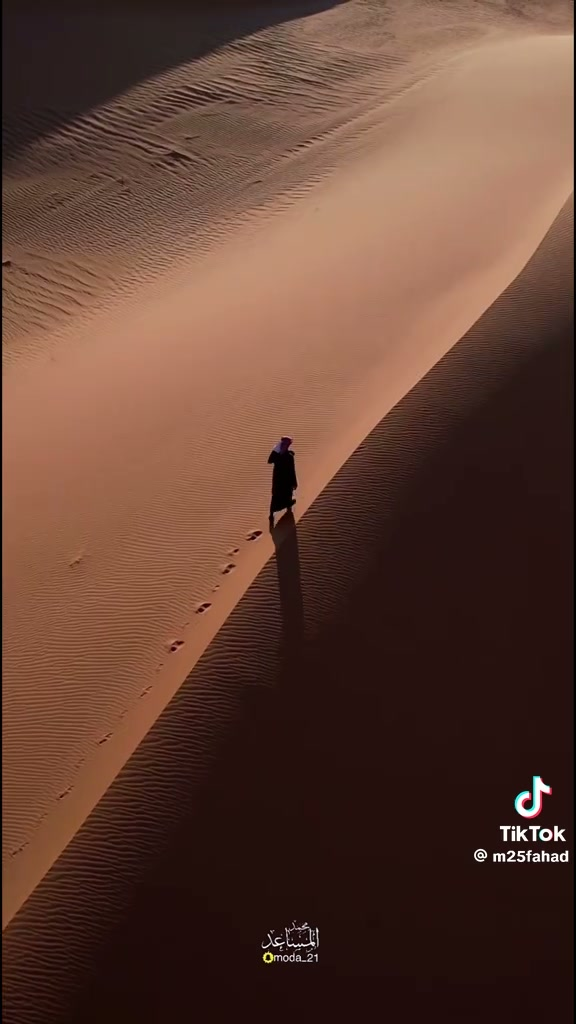human_footprint: (169, 640, 184, 653), (97, 732, 111, 745), (246, 529, 262, 540), (196, 601, 210, 613), (227, 547, 239, 557)
